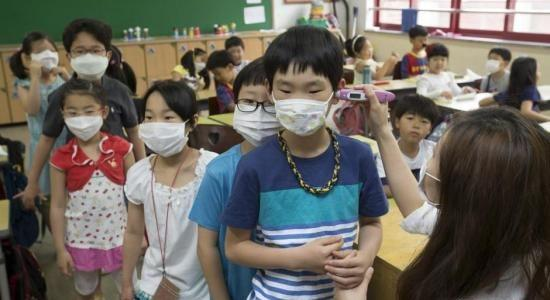NONE: (404, 115, 432, 142), (213, 64, 233, 85), (432, 57, 447, 73), (415, 35, 429, 52), (358, 45, 375, 59), (231, 48, 245, 64)
OK: (272, 78, 330, 136), (421, 135, 463, 209), (140, 105, 190, 155), (236, 96, 284, 144), (66, 101, 105, 140), (72, 42, 109, 82), (32, 46, 60, 75), (488, 56, 505, 75), (194, 56, 209, 73)
